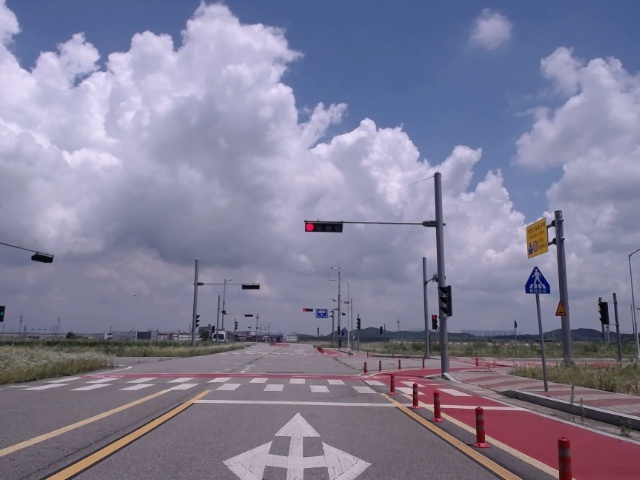red_4: (304, 222, 343, 232)
